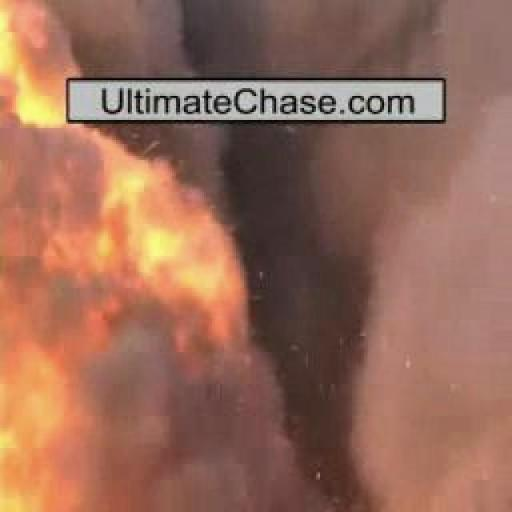smoke: (0, 0, 246, 512)
